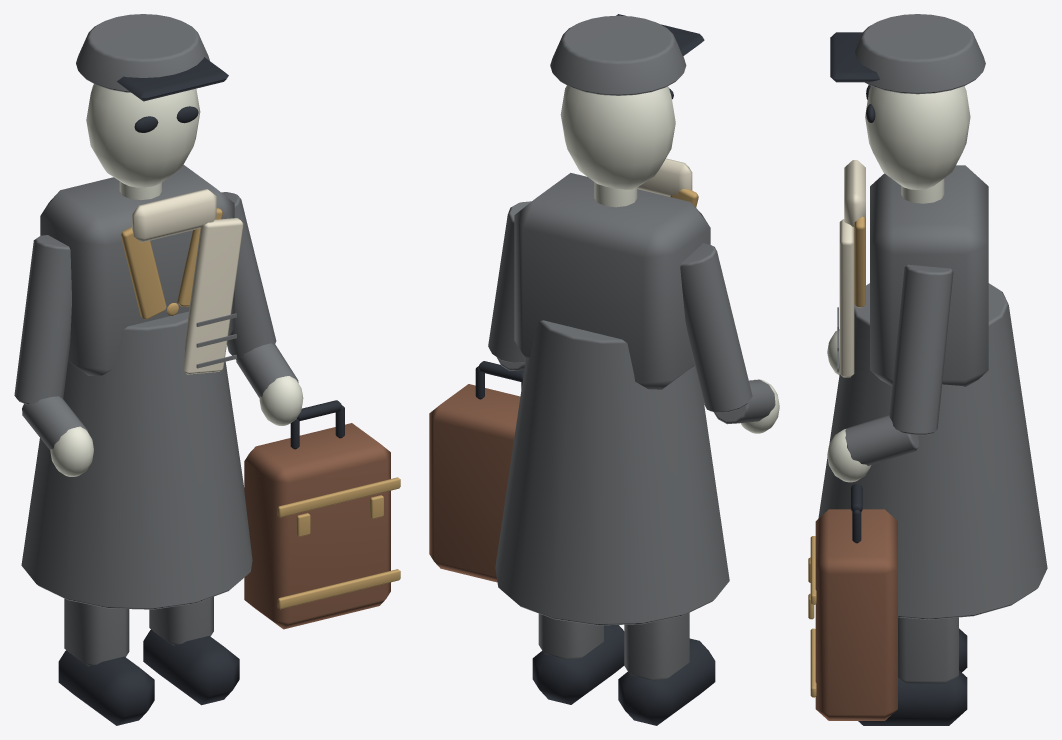
Rendered from traveler_last.glb.
3 views of the same model, side by side, from view 1: azimuth 30°, elevation 25°; view 2: azimuth 150°, elevation 25°; view 3: azimuth 270°, elevation 25° (orthographic).
Visible parts, largest first — view 1: traveler_last; view 2: traveler_last; view 3: traveler_last.
Boxes of the visible parts, box(x1,y1,x2,y2) form: traveler_last: box(14, 14, 400, 725); traveler_last: box(429, 14, 779, 725); traveler_last: box(808, 14, 1047, 725).
Bounding box in the file's own units: 1.18 × 2.22 × 0.7258.
